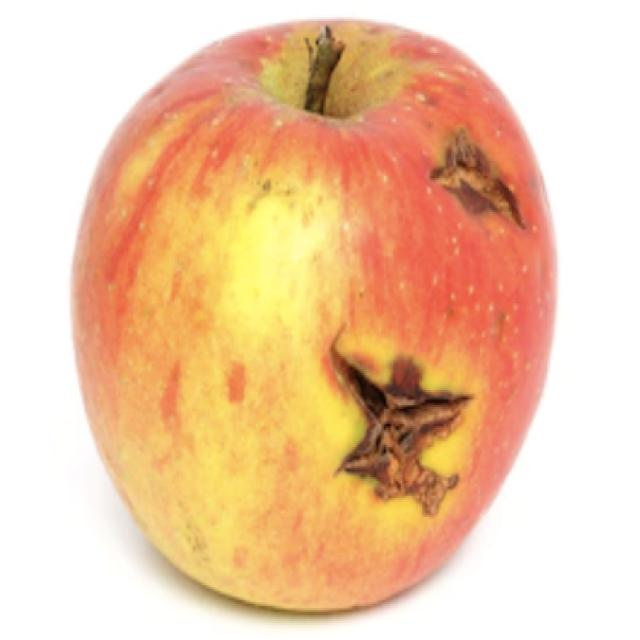apple: (74, 21, 556, 609)
